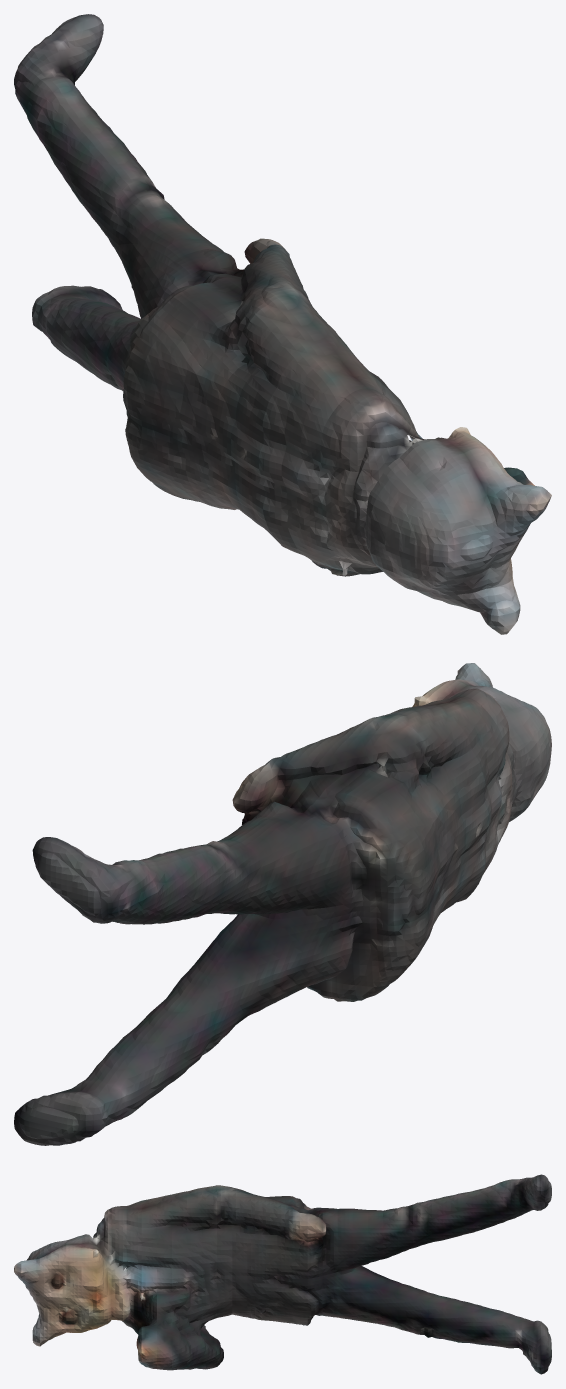
3 renders of one model, top to bottom at view 1: azimuth 30°, elevation 25°; view 2: azimuth 150°, elevation 25°; view 3: azimuth 270°, elevation 25°, orthographic. The views are drawn at different scales.
Visible parts, largest first — view 1: world; view 2: world; view 3: world.
Part boxes in pixels (box(x1,y1,x2,y2)): world: box(14, 14, 551, 634); world: box(14, 663, 551, 1145); world: box(14, 1174, 551, 1374).
Size of the model in its own units: 0.3434 by 0.3892 by 0.9707.
